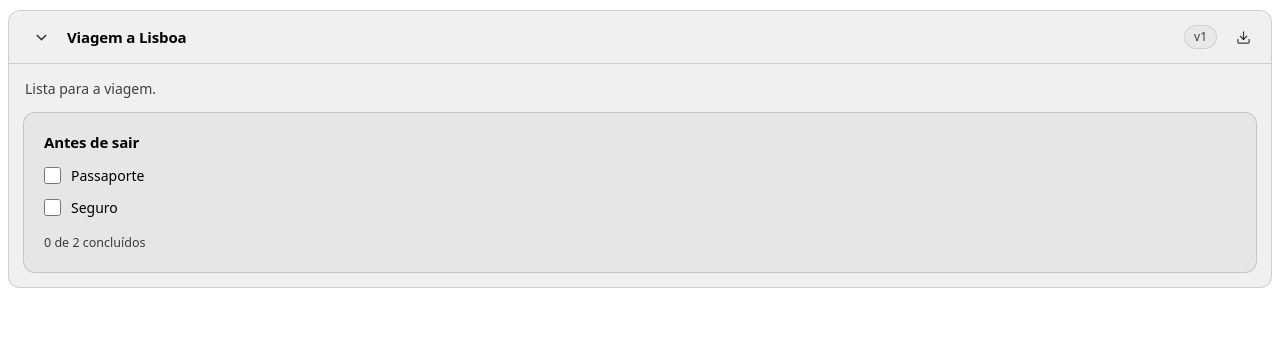
Test: InlineCanvas › reloads when another window changed the draft
expect the heading "Viagem a Lisboa" is shown: met, box [67,27,186,47]
Click the checkbox labelled "Passaporte": (52, 176) [44,167,61,184]
Wait 800 ms
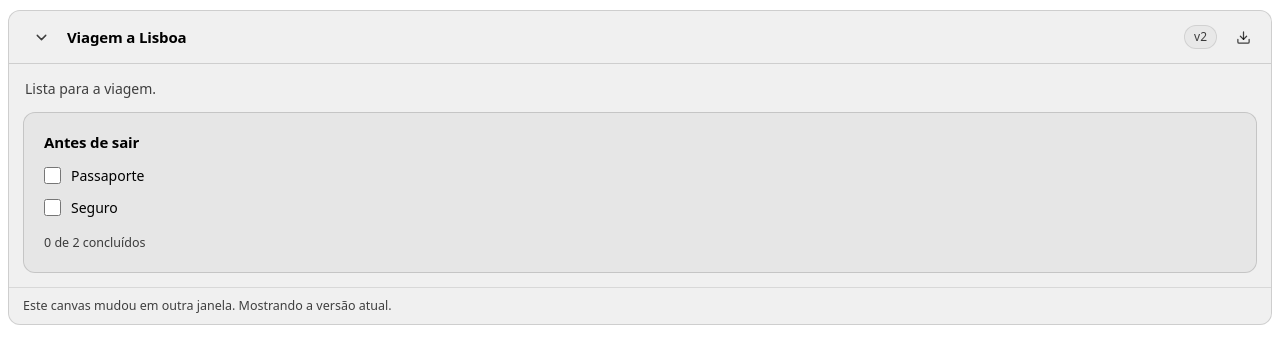
expect the text "Este canvas mudou em outra janela. Mostrando a versão atual." is shown: met, box [23,296,392,316]
expect the text "v2" is shown: met, box [1184,25,1217,49]
